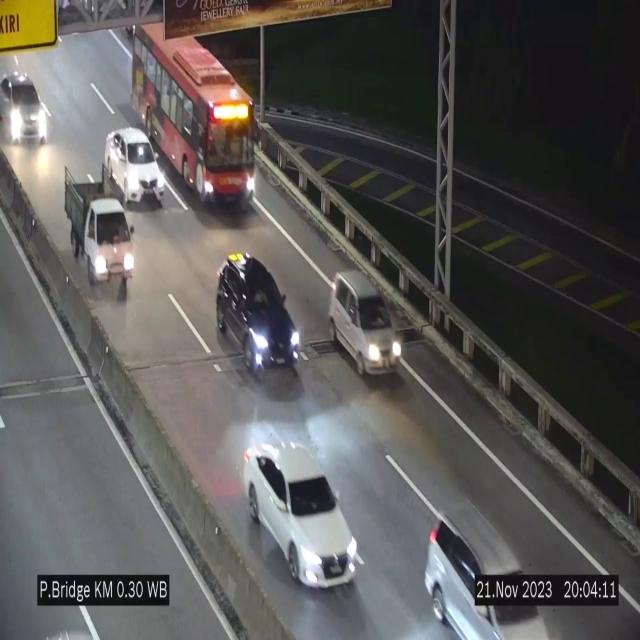Bus: (131, 21, 254, 207)
Car: (243, 421, 357, 587), (216, 251, 300, 375), (328, 271, 404, 379), (104, 125, 164, 209), (0, 71, 48, 149)
Truck: (65, 164, 133, 297)
